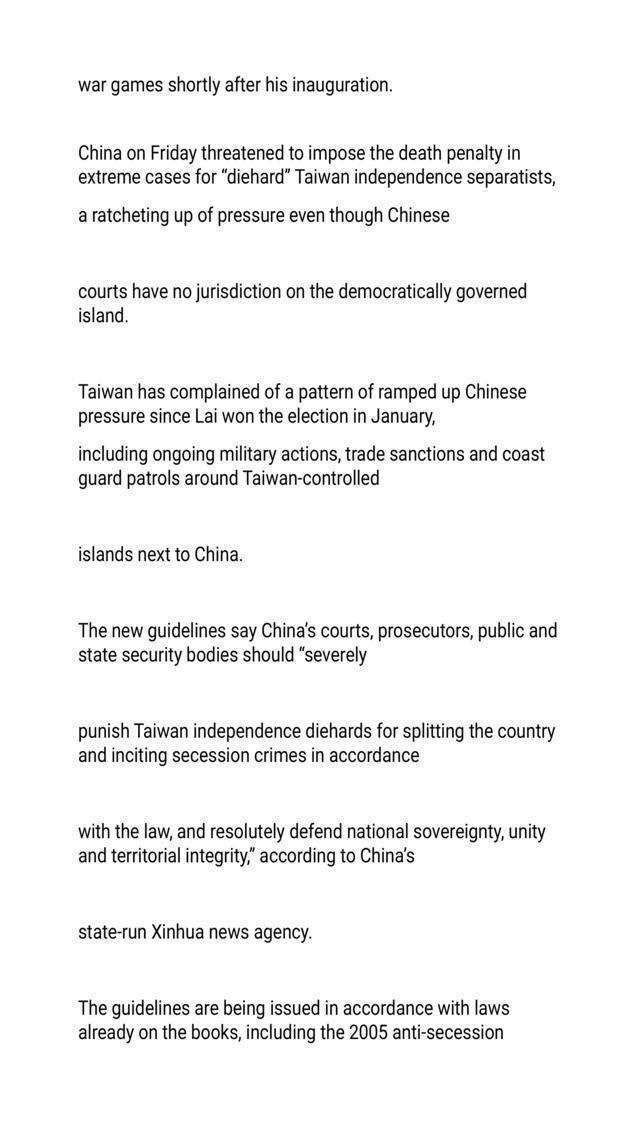Text: (76, 616, 564, 644), (75, 379, 532, 408), (75, 817, 554, 844), (75, 166, 560, 191), (72, 278, 533, 304), (71, 720, 563, 744), (77, 138, 530, 164), (74, 1020, 514, 1046), (76, 442, 548, 466), (74, 203, 456, 232), (74, 996, 515, 1020), (70, 71, 400, 102), (74, 845, 423, 872), (74, 408, 446, 431), (72, 746, 428, 768), (75, 644, 374, 669), (75, 916, 316, 946), (76, 468, 387, 491), (72, 543, 246, 570), (72, 302, 134, 330)
